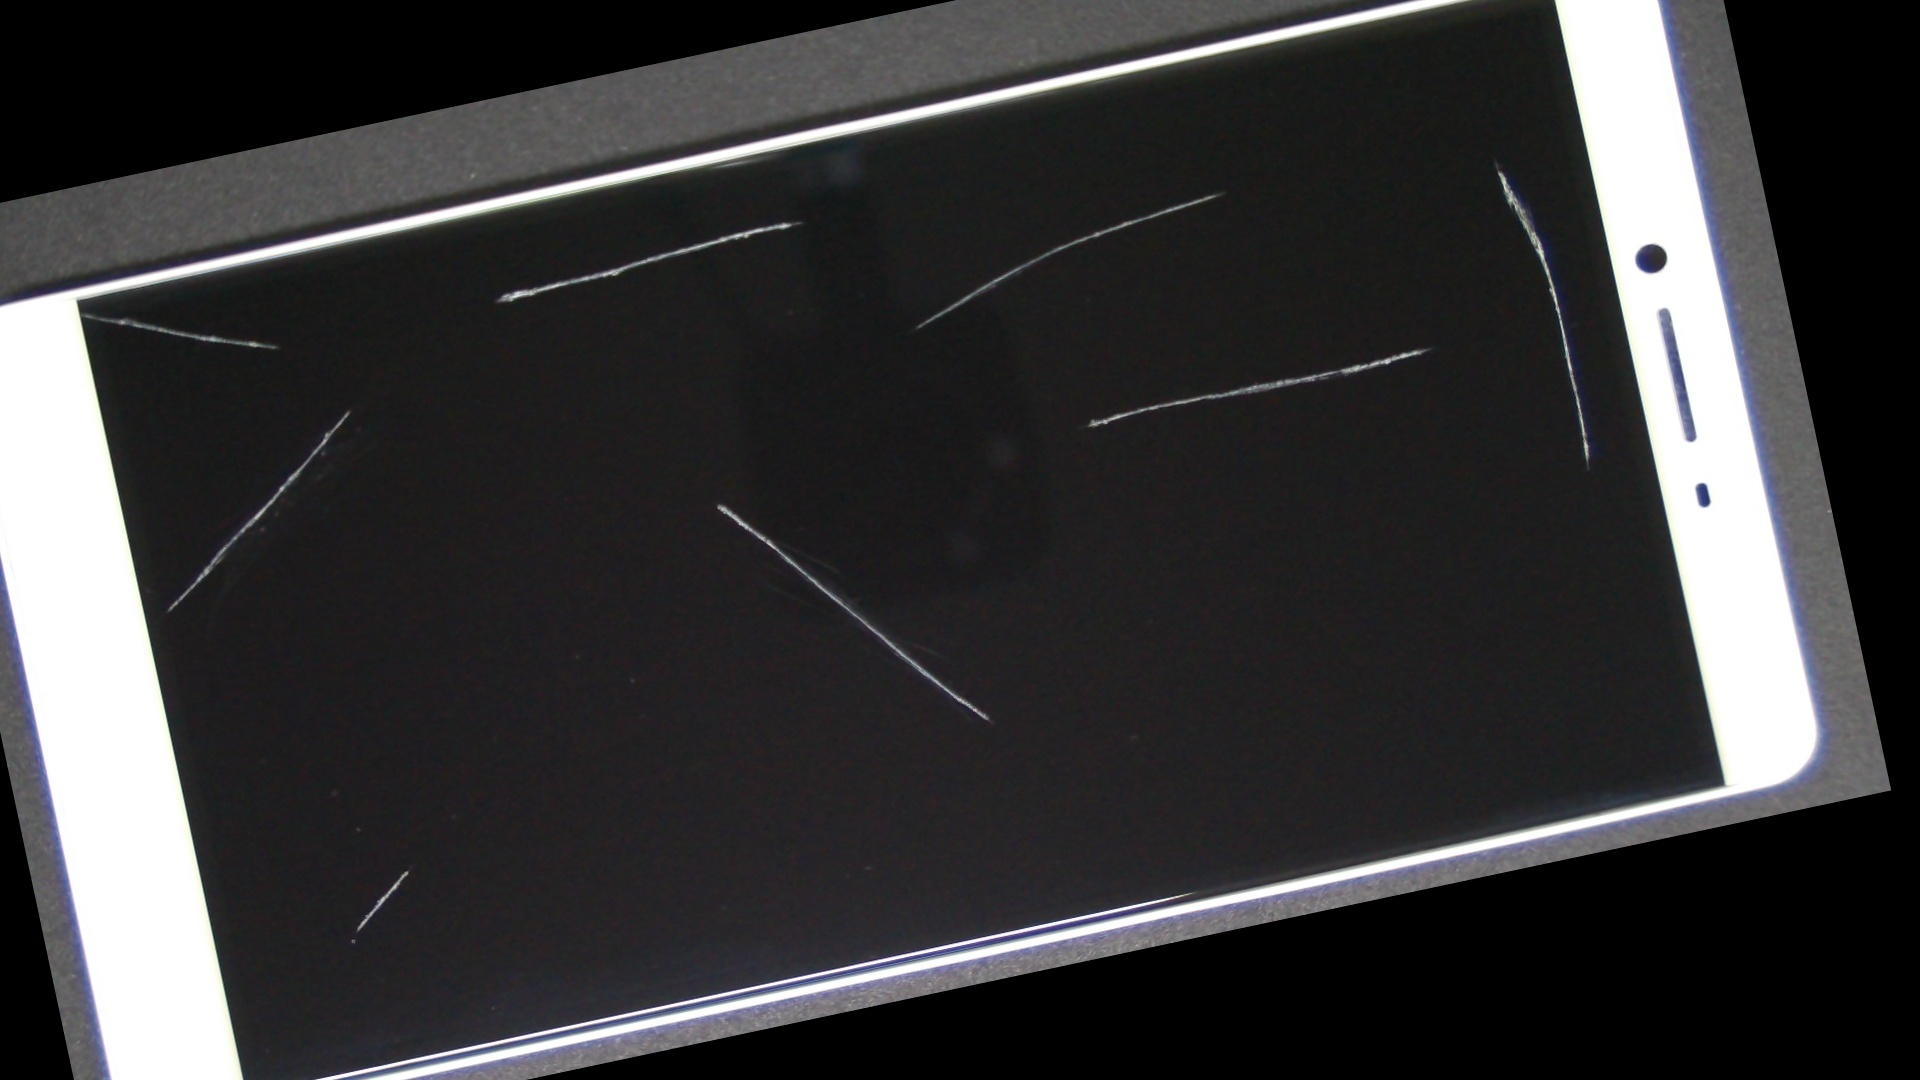oil: (516, 71, 1760, 742), (550, 0, 1766, 447), (692, 0, 1776, 468), (306, 208, 1130, 798), (330, 47, 1203, 401), (150, 471, 629, 1080), (121, 232, 574, 587), (0, 232, 174, 392)
